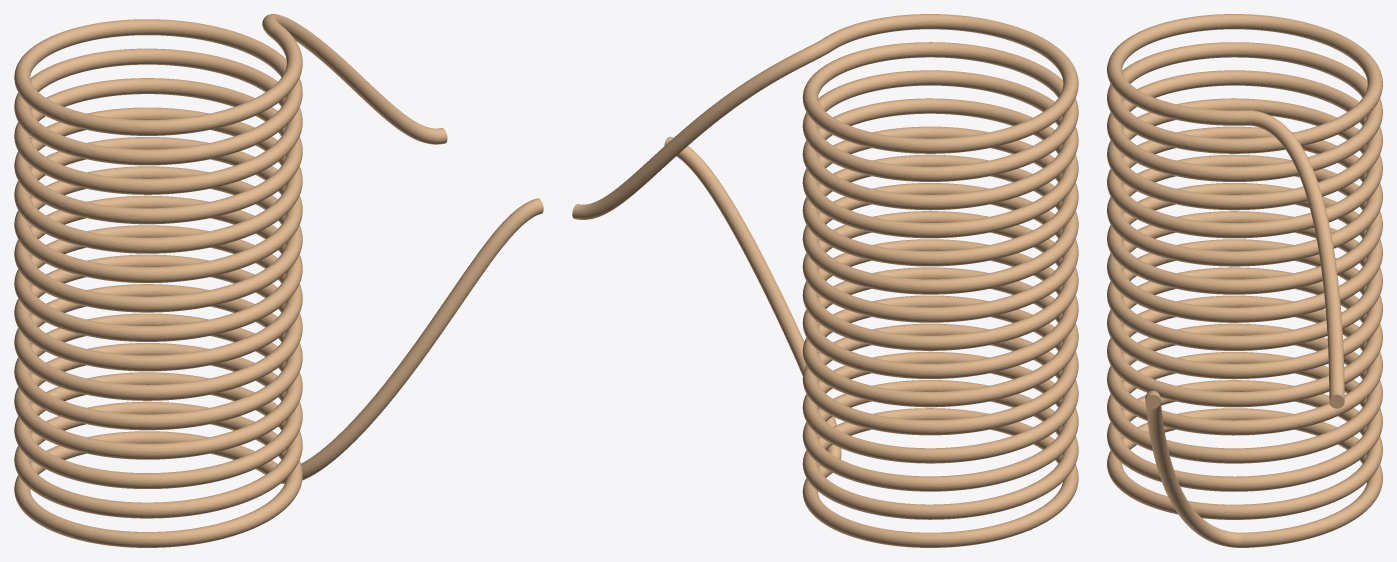
Rendered from evr-winding-illustrative.glb.
3 views of the same model, side by side, from view 1: azimuth 30°, elevation 25°; view 2: azimuth 150°, elevation 25°; view 3: azimuth 270°, elevation 25° (orthographic). The views are drawn at different scales.
Parts seen in each view (by area): view 1: world; view 2: world; view 3: world.
Part boxes in pixels (bbox=[...]): world: bbox=[14, 14, 543, 547]; world: bbox=[572, 14, 1078, 547]; world: bbox=[1107, 14, 1382, 547].
Size of the model in its own units: 0.0165 by 0.0157 by 0.009.
